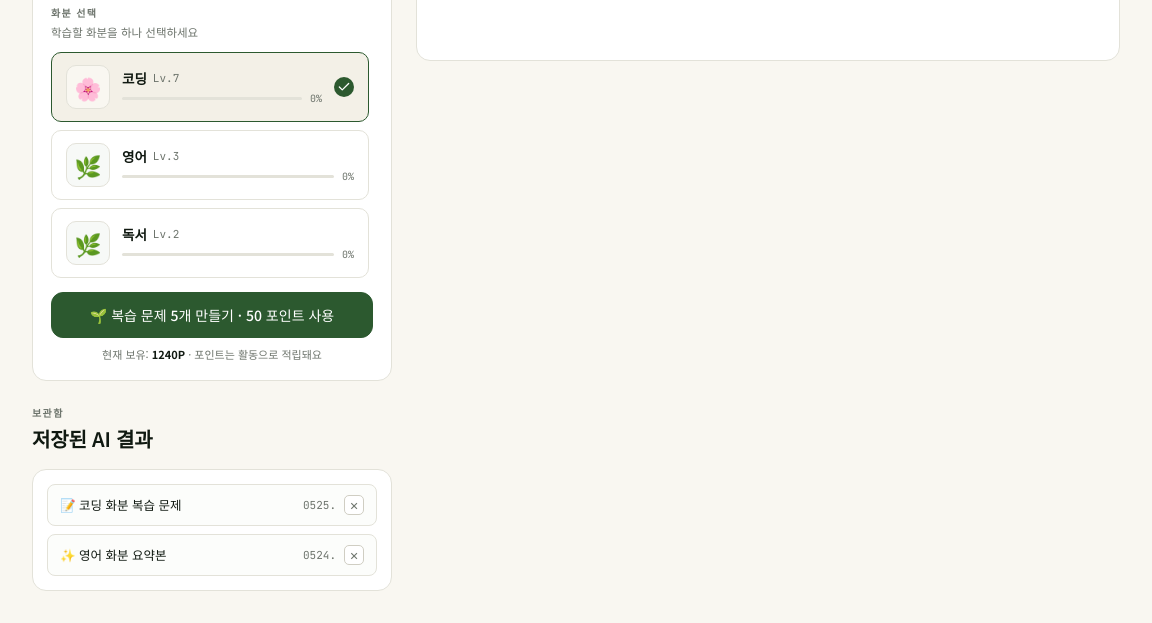
Scenario: 결과 저장 및 보관함 › 삭제 후 보관함 목록에서 해당 항목이 제거된다
The width and height of the screenshot is (1152, 623).
(page scrolled)
Expected: the text "📝 코딩 화분 복습 문제" is shown, [60,495,182,514]
Click the button named "삭제" at (354, 505), box [344,495,364,515]
(page scrolled)
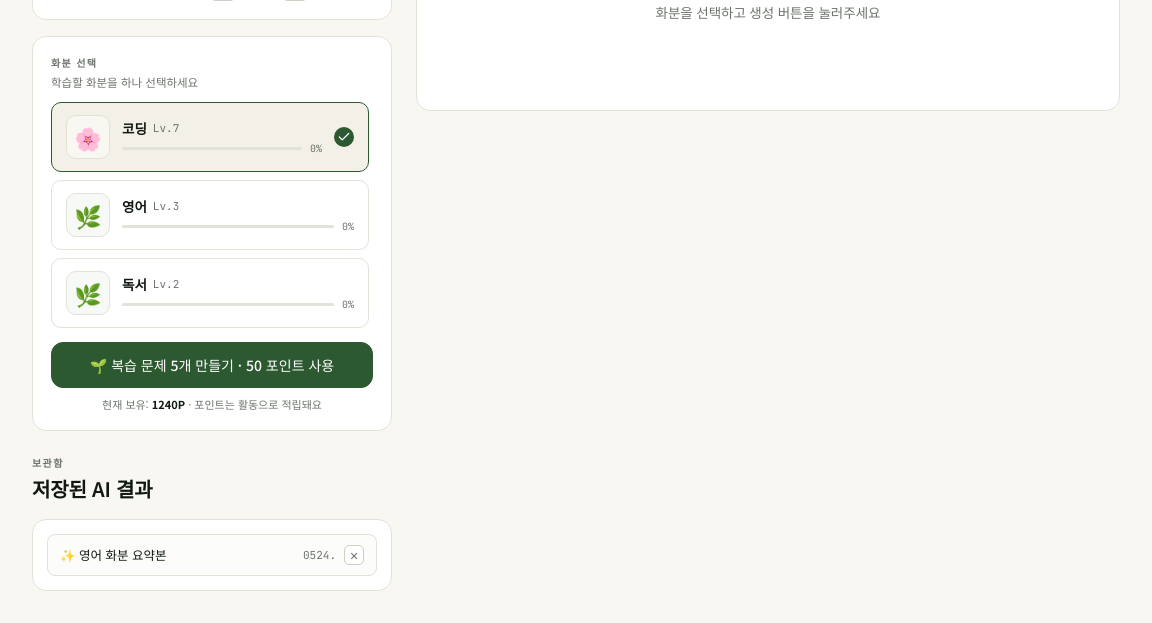
Now the text "코딩 화분 복습 문제" is gone
